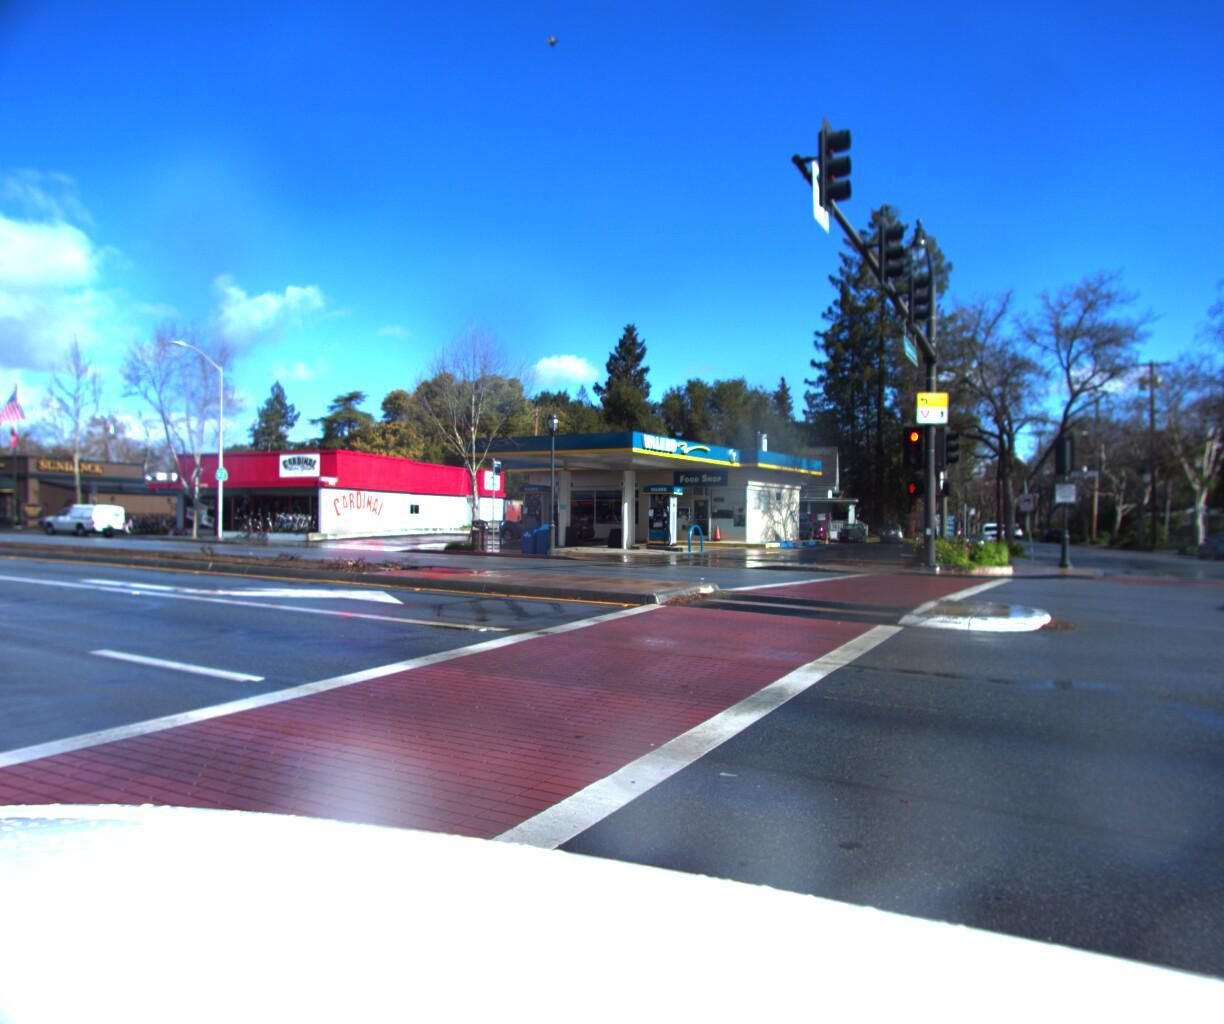car: (486, 504, 599, 551), (32, 507, 132, 542), (1184, 522, 1224, 564), (971, 520, 1012, 547), (837, 518, 868, 543), (877, 517, 906, 542)
